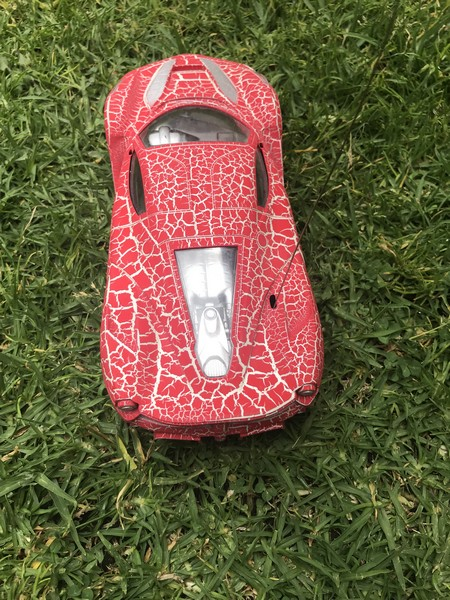RC: (97, 52, 323, 444)
